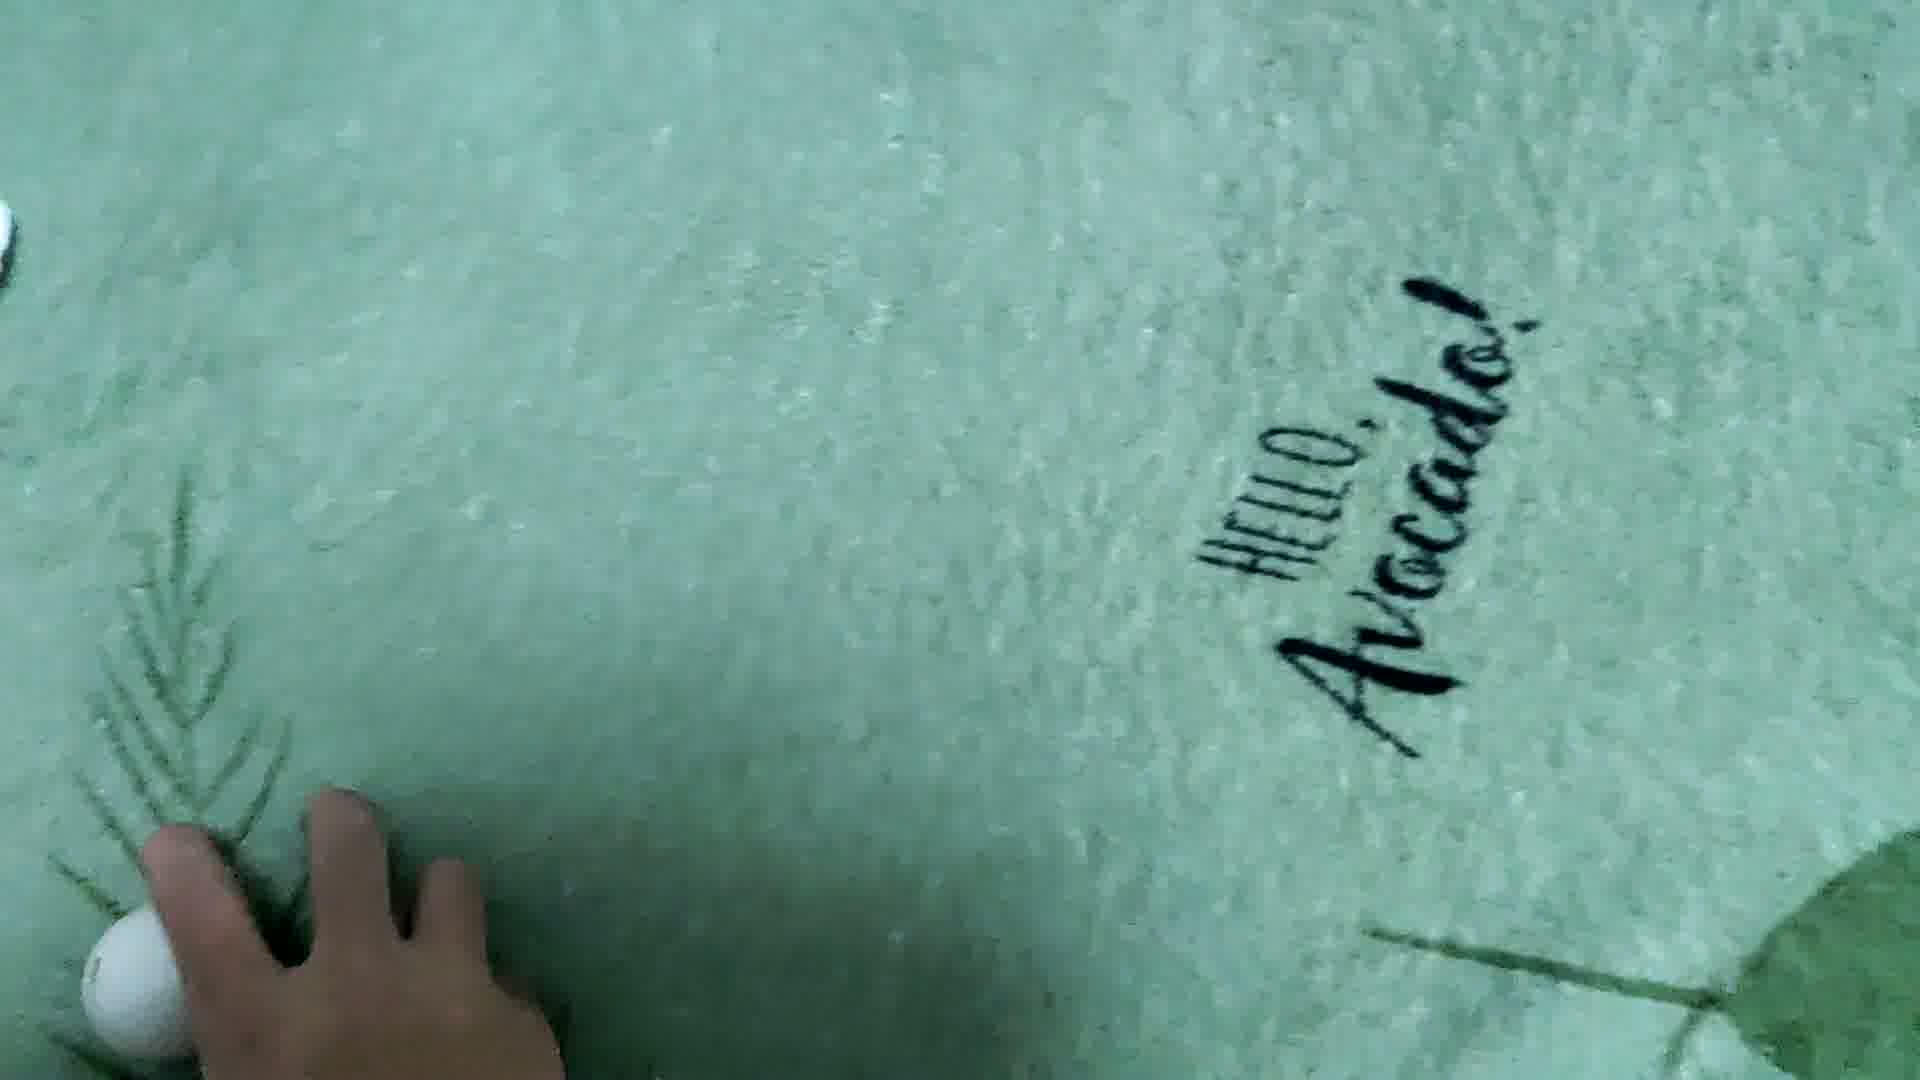Ball: (83, 899, 241, 1077)
